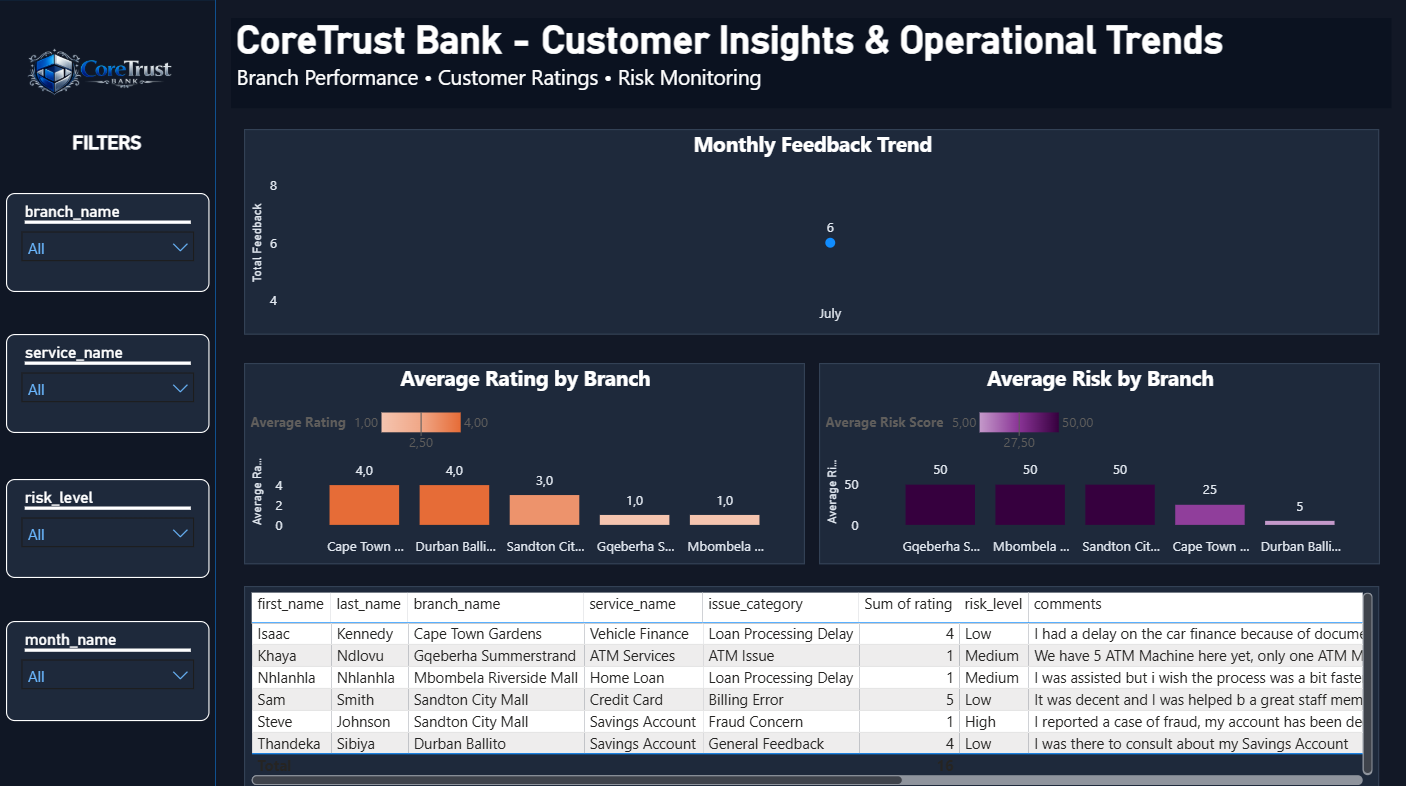

What the dashboard file says about the page in this screenshot:
{"tool":"powerbi","page":{"name":"Customer Insights & Operational Trends","canvas":[1280,720],"ordinal":1},"visuals":[{"type":"shape","box":[0,0,198.4,720],"z":0},{"type":"lineChart","title":"Monthly Feedback Trend","fields":{"Category":["dim_date.month_name"],"Y":["fact_feedback.Total Feedback"]},"box":[224,117.9,1031.9,186.8],"z":1000},{"type":"image","box":[0.9,0,198,136],"z":1001},{"type":"shape","title":"FILTERS","box":[0,120,198,32],"z":1002},{"type":"textbox","title":"CoreTrust Bank - Customer Insights & Operational Trends","box":[212.2,17.2,1055,82],"z":1003},{"type":"slicer","fields":{"Values":["dim_branch.branch_name"]},"box":[7.2,176,184.9,89.8],"z":1004},{"type":"slicer","fields":{"Values":["dim_service.service_name"]},"box":[7.3,304.7,184.9,89.8],"z":1005},{"type":"clusteredColumnChart","title":"Average Rating by Branch","fields":{"Category":["dim_branch.branch_name"],"Y":["fact_feedback.Average Rating"]},"box":[224,331,509.6,183.2],"z":1006},{"type":"clusteredColumnChart","title":"Average Risk by Branch","fields":{"Category":["dim_branch.branch_name"],"Y":["fact_feedback.Average Risk Score"]},"box":[746.3,331,509.6,183.2],"z":1007},{"type":"tableEx","title":"Detailed Feedback Table","fields":{"Values":["dim_customer.first_name","dim_customer.last_name","dim_branch.branch_name","dim_service.service_name","dim_issue.issue_category","Sum(fact_feedback.rating)","fact_feedback.risk_level","fact_feedback.comments","fact_feedback.loaded_at.Variation.Date Hierarchy.Year","fact_feedback.loaded_at.Variation.Date Hierarchy.Quarter","fact_feedback.loaded_at.Variation.Date Hierarchy.Month","fact_feedback.loaded_at.Variation.Date Hierarchy.Day"]},"box":[224,533.2,1031.9,186.8],"z":1008},{"type":"slicer","fields":{"Values":["fact_feedback.risk_level"]},"box":[7.2,436.3,184.9,89.8],"z":1009},{"type":"slicer","fields":{"Values":["dim_date.month_name"]},"box":[7.2,565.6,184.9,90.7],"z":1010}]}

Visuals, with their boxes in screenshot pixels (x1, y1, x2, y2), scaled from the page's 1280x720 canvas onto the 1406x786 screenshot:
shape: box=[0, 0, 218, 785]
"Monthly Feedback Trend" lineChart: box=[246, 129, 1380, 333]
image: box=[1, 0, 218, 148]
"FILTERS" shape: box=[0, 131, 217, 166]
"CoreTrust Bank - Customer Insights & Operational Trends" textbox: box=[233, 19, 1392, 108]
slicer - dim_branch.branch_name: box=[8, 192, 211, 290]
slicer - dim_service.service_name: box=[8, 333, 211, 431]
"Average Rating by Branch" clusteredColumnChart: box=[246, 361, 806, 561]
"Average Risk by Branch" clusteredColumnChart: box=[820, 361, 1380, 561]
"Detailed Feedback Table" tableEx: box=[246, 582, 1380, 785]
slicer - fact_feedback.risk_level: box=[8, 476, 211, 574]
slicer - dim_date.month_name: box=[8, 617, 211, 716]
